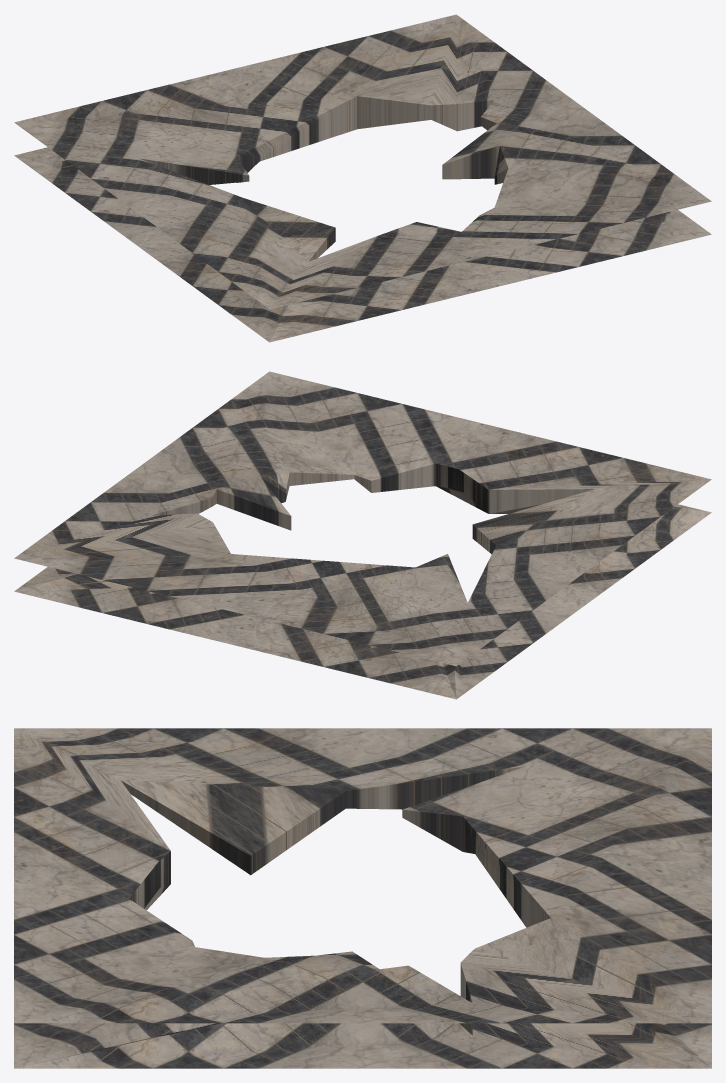
The model's file is SM_ArchFloorBroken_01a.fbx.
3 views of the same model, one above another, from view 1: azimuth 30°, elevation 25°; view 2: azimuth 150°, elevation 25°; view 3: azimuth 270°, elevation 25° (orthographic). The views are drawn at different scales.
Visible parts, largest first — view 1: SM_ArchFloorBroken_01a; view 2: SM_ArchFloorBroken_01a; view 3: SM_ArchFloorBroken_01a.
Part boxes in pixels (left/top/right/bottom): SM_ArchFloorBroken_01a: left=14, top=14, right=711, bottom=342; SM_ArchFloorBroken_01a: left=14, top=371, right=711, bottom=699; SM_ArchFloorBroken_01a: left=14, top=728, right=711, bottom=1068.
Bounding box in the file's own units: 700 × 50 × 700.
1 material, 1 textured.
